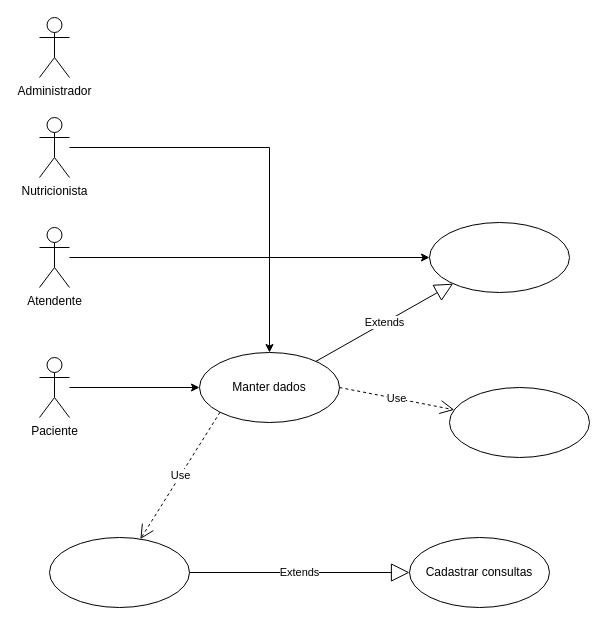
The diagram is 607 pixels wide and 625 high, and some of its shapes have lost their labels. Here are the shapes that lost their labels. From the top down, the box of each, then its label:
(428, 222, 570, 292): Agendar
(448, 386, 590, 458): Manter alimentos
(48, 536, 190, 608): Ler consultas
